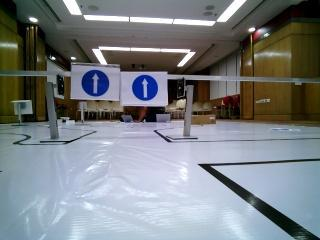straight: (72, 65, 120, 103), (123, 71, 170, 105)
